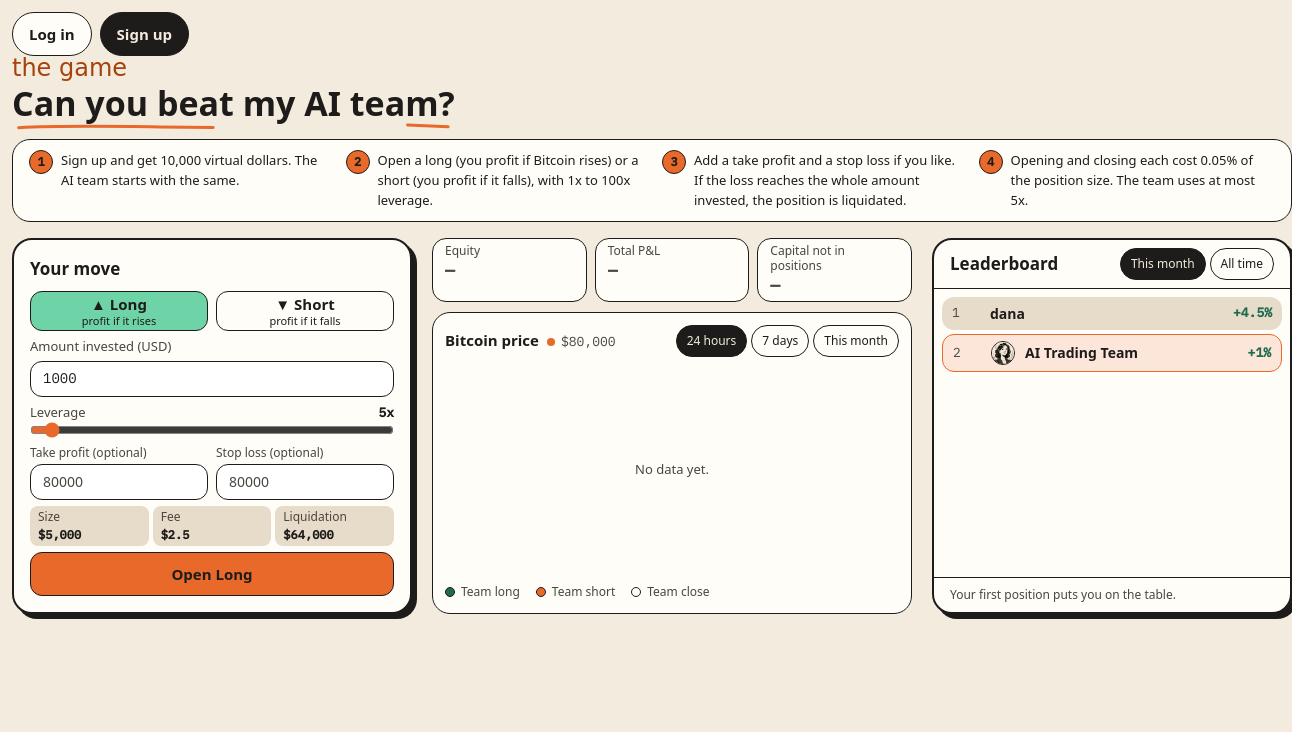
Test: logged out, the form shows but using it asks to log in
What coordinates should you click on to do the following:
click the button "▲ Long profit if it rises"
I would click on:
 (119, 311)
Its box is 30,291 -> 208,331.
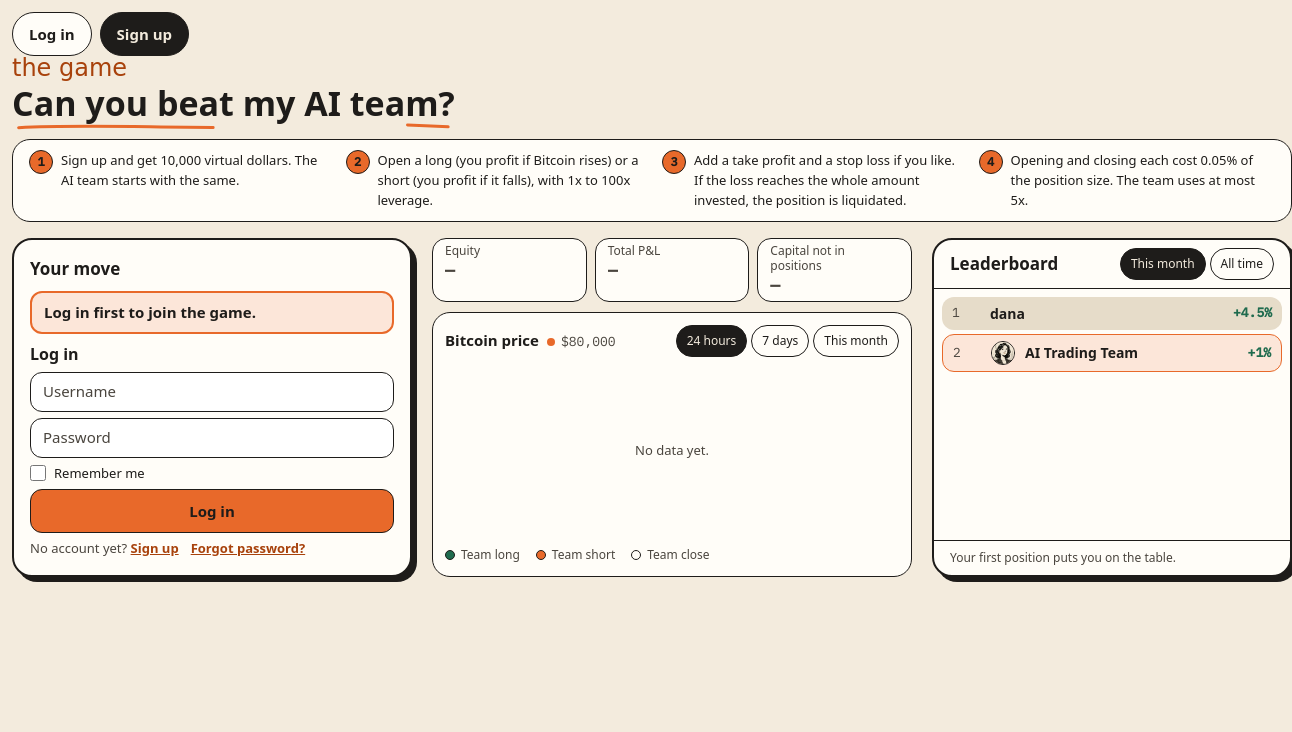
Check: the message reads "Log in first to join the game.", box 44,302 -> 256,322
Check: the password field labelled "Password" is shown, box 30,418 -> 394,458
